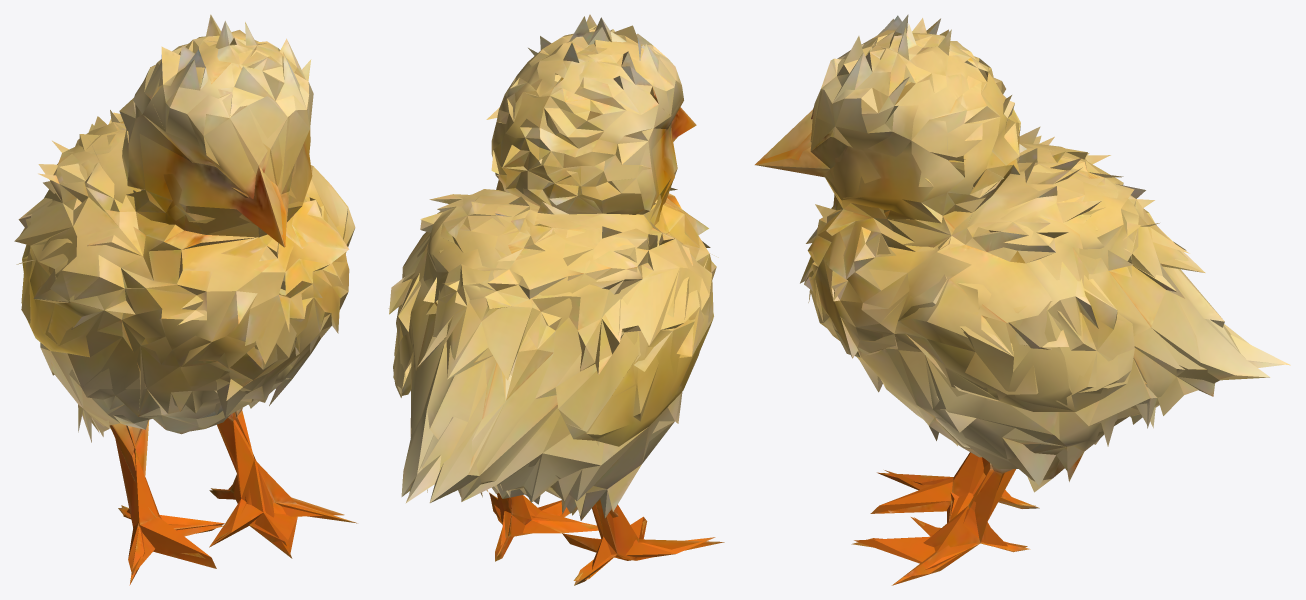
File: chick.glb
The picture shows the model from 3 angles, left to right: view 1: azimuth 30°, elevation 25°; view 2: azimuth 150°, elevation 25°; view 3: azimuth 270°, elevation 25°; orthographic projection. The views are drawn at different scales.
Size of the model in its own units: 1.1 by 1.9 by 1.79.
1 material, 1 textured.
